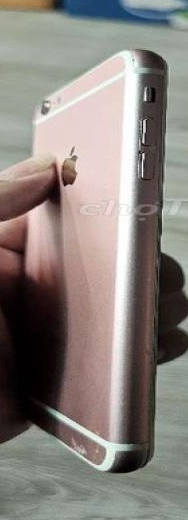scratch: (55, 413, 150, 476), (122, 108, 172, 185)
